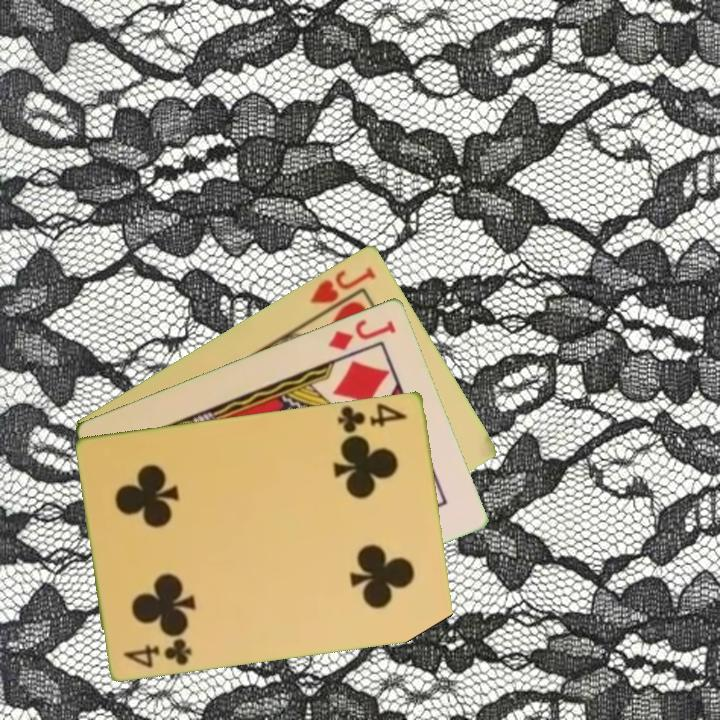4c: (334, 399, 410, 439), (120, 634, 195, 671)
Jd: (324, 315, 399, 353)
Jh: (306, 262, 379, 321)
